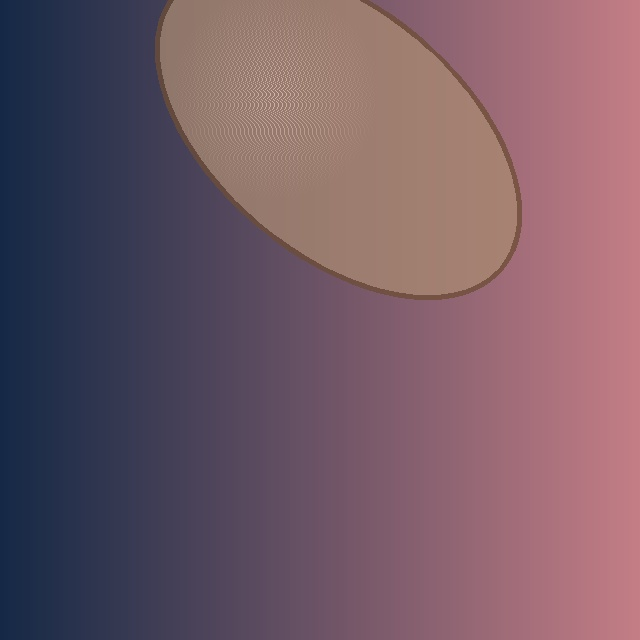lens: (157, 0, 519, 297)
